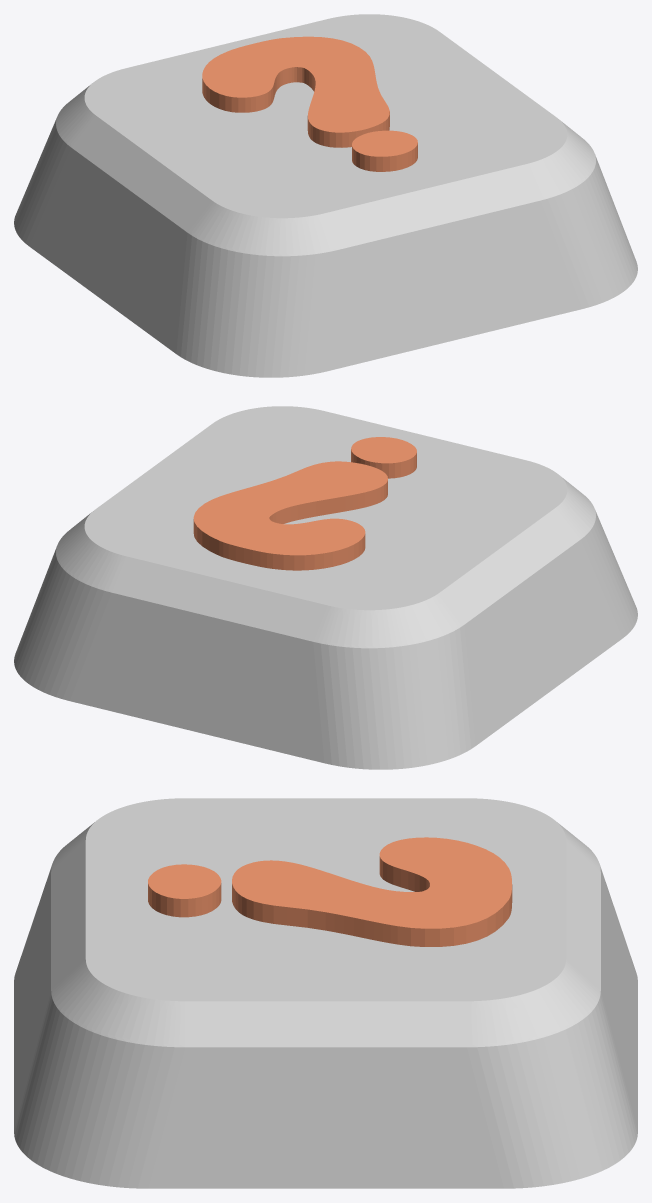
File: cap-question_mark.glb
3 views of the same model, one above another, from view 1: azimuth 30°, elevation 25°; view 2: azimuth 150°, elevation 25°; view 3: azimuth 270°, elevation 25° (orthographic). The views are drawn at different scales.
Parts seen in each view (by area): view 1: cap_0, glyph_1; view 2: cap_0, glyph_1; view 3: cap_0, glyph_1.
Boxes of the visible parts, x1,y1,x2,y2 form: cap_0: (14,14,637,377); glyph_1: (202,36,417,171); cap_0: (14,406,637,769); glyph_1: (193,437,416,570); cap_0: (14,798,637,1188); glyph_1: (148,837,512,946).
Bounding box in the file's own units: 18 × 5.59 × 18.
